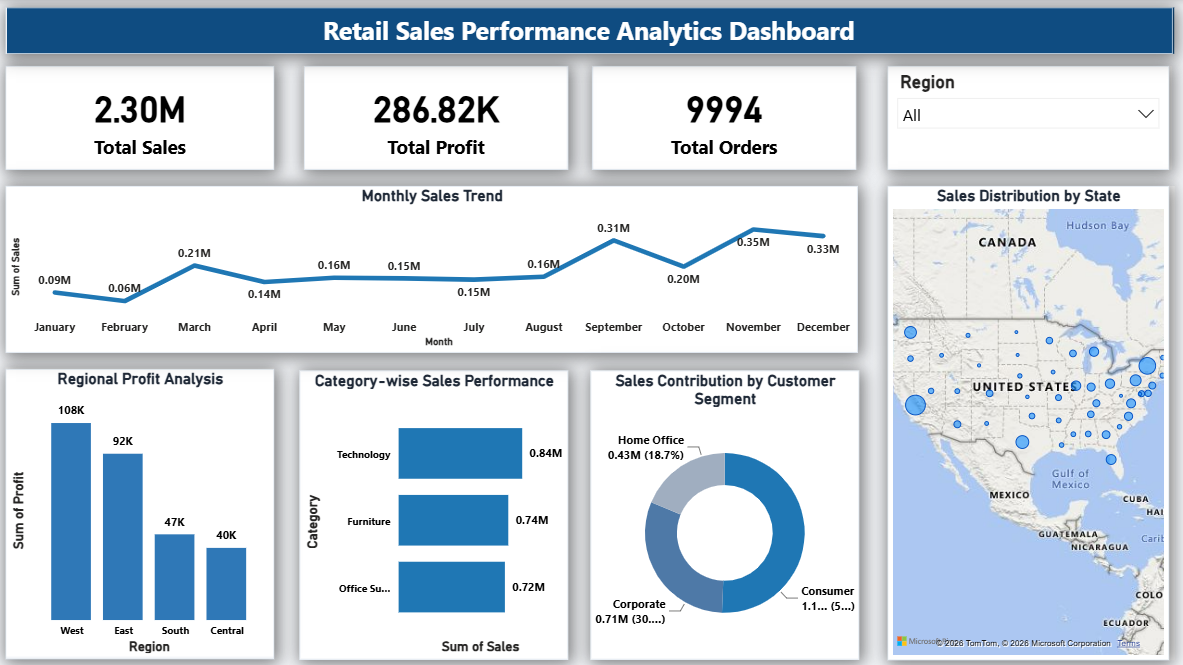

Layout of this report page (visuals, bound fields, positions):
{"tool":"powerbi","page":{"name":"Page 1","canvas":[1280,720],"ordinal":0},"visuals":[{"type":"shape","box":[8,72,290,112],"z":0},{"type":"card","fields":{"Values":["Sum(Query1.Sales)"]},"box":[8,72,290,112],"z":1000},{"type":"shape","box":[643,72,285,112],"z":2000},{"type":"card","fields":{"Values":["CountNonNull(Query1.Order_ID)"]},"box":[642,72,285,112],"z":3000},{"type":"shape","box":[329,72,285,112],"z":4000},{"type":"card","fields":{"Values":["Sum(Query1.Profit)"]},"box":[330,72,285,112],"z":5000},{"type":"shape","box":[326,400,290,312],"z":5500},{"type":"clusteredBarChart","title":"Category-wise Sales Performance","fields":{"Category":["Query1.Category"],"Y":["Sum(Query1.Sales)"]},"box":[325,400,290,312],"z":6000},{"type":"shape","box":[8,396,290,312],"z":7000},{"type":"clusteredColumnChart","title":"Regional Profit Analysis","fields":{"Category":["Query1.Region"],"Y":["Sum(Query1.Profit)"]},"box":[8,398,290,313],"z":8000},{"type":"shape","box":[8,200,920,180],"z":9000},{"type":"lineChart","title":"Monthly Sales Trend","fields":{"Y":["Sum(Query1.Sales)"],"Category":["Query1.Order_Date.Variation.Date Hierarchy.Year","Query1.Order_Date.Variation.Date Hierarchy.Quarter","Query1.Order_Date.Variation.Date Hierarchy.Month","Query1.Order_Date.Variation.Date Hierarchy.Day"]},"box":[8,200,920,180],"z":10000},{"type":"shape","box":[961,72,307,112],"z":11000},{"type":"slicer","fields":{"Values":["Query1.Region"]},"box":[960,72,304,112],"z":12000},{"type":"shape","box":[10,8,1260,50],"z":13000},{"type":"textbox","box":[8,8,1260,50],"z":14000},{"type":"shape","box":[640,400,290,312],"z":14500},{"type":"donutChart","title":"Sales Contribution by Customer Segment","fields":{"Y":["Sum(Query1.Sales)"],"Category":["Query1.Segment"]},"box":[639,400,290,312],"z":15000},{"type":"shape","box":[960,200,310,512],"z":15500},{"type":"map","title":"Sales Distribution by State","fields":{"Category":["Query1.State"],"Size":["Sum(Query1.Sales)"]},"box":[960,200,304,512],"z":16000}]}

Visuals, with their boxes in screenshot pixels (x1, y1, x2, y2), scaled from the page's 1280x720 canvas onto the 1183x665 screenshot:
shape: (left=7, top=66, right=275, bottom=170)
card - Sum(Query1.Sales): (left=7, top=66, right=275, bottom=170)
shape: (left=594, top=66, right=858, bottom=170)
card - CountNonNull(Query1.Order_ID): (left=593, top=66, right=857, bottom=170)
shape: (left=304, top=66, right=567, bottom=170)
card - Sum(Query1.Profit): (left=305, top=66, right=568, bottom=170)
shape: (left=301, top=369, right=569, bottom=658)
"Category-wise Sales Performance" clusteredBarChart: (left=300, top=369, right=568, bottom=658)
shape: (left=7, top=366, right=275, bottom=654)
"Regional Profit Analysis" clusteredColumnChart: (left=7, top=368, right=275, bottom=657)
shape: (left=7, top=185, right=858, bottom=351)
"Monthly Sales Trend" lineChart: (left=7, top=185, right=858, bottom=351)
shape: (left=888, top=66, right=1172, bottom=170)
slicer - Query1.Region: (left=887, top=66, right=1168, bottom=170)
shape: (left=9, top=7, right=1174, bottom=54)
textbox: (left=7, top=7, right=1172, bottom=54)
shape: (left=592, top=369, right=860, bottom=658)
"Sales Contribution by Customer Segment" donutChart: (left=591, top=369, right=859, bottom=658)
shape: (left=887, top=185, right=1174, bottom=658)
"Sales Distribution by State" map: (left=887, top=185, right=1168, bottom=658)
